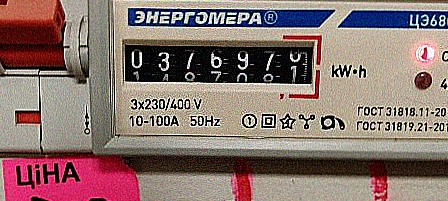0: (129, 46, 143, 68)
1: (287, 63, 299, 83)
3: (156, 49, 171, 71)
6: (208, 45, 223, 68)
7: (181, 46, 196, 69), (262, 48, 276, 71)
9: (234, 47, 249, 70)
screen: (113, 29, 324, 103)
